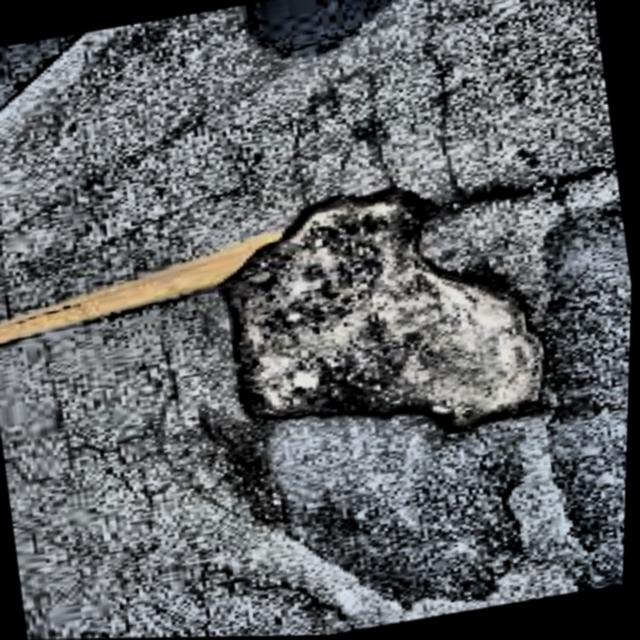pothole: (221, 188, 538, 429)
